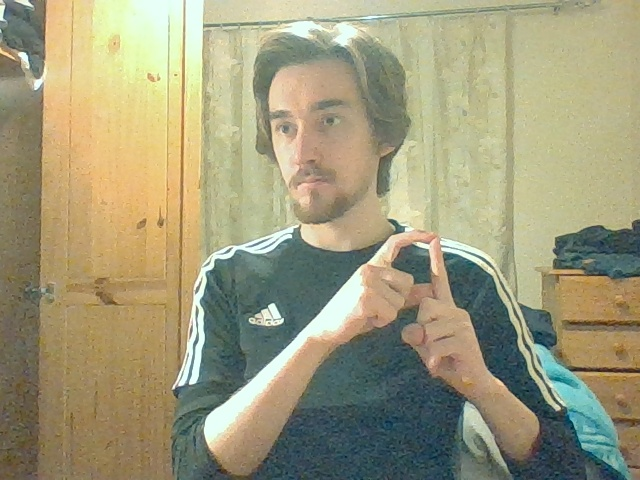daughter: (352, 230, 464, 369)
